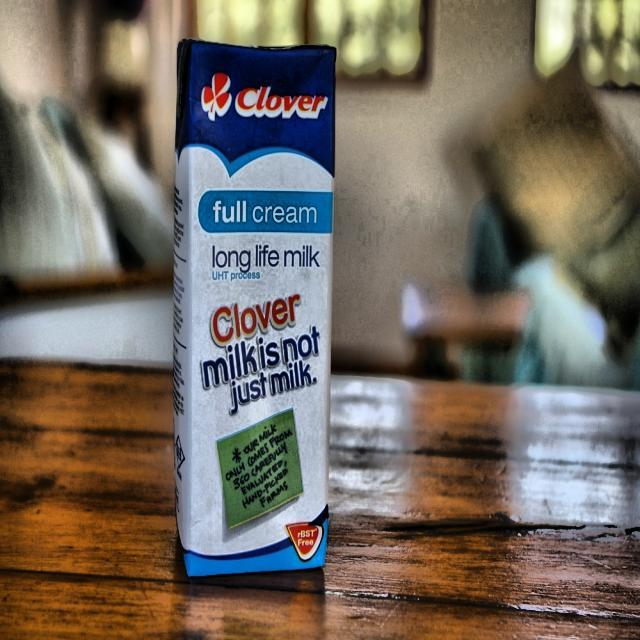cardboard: (171, 36, 336, 576)
